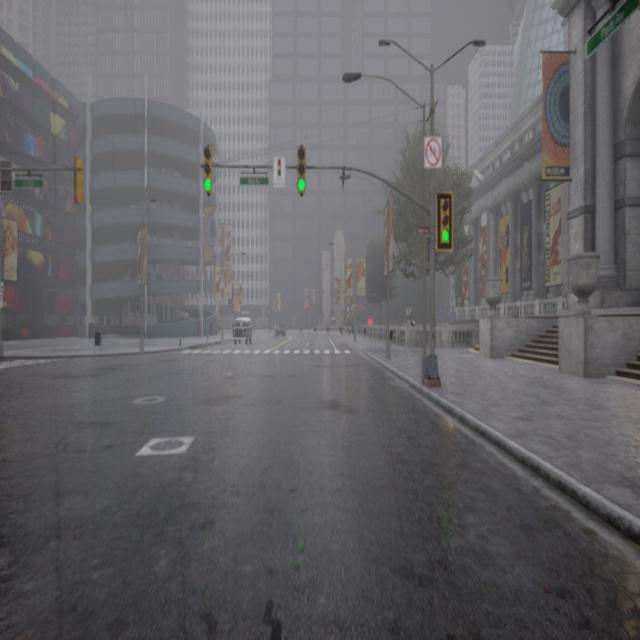11: (423, 134, 443, 167)
bien_chi_dan: (296, 178, 306, 192), (441, 230, 450, 244), (205, 179, 212, 193)
bien_nguy_hiem: (434, 193, 454, 253), (201, 142, 218, 198), (295, 141, 308, 203)
